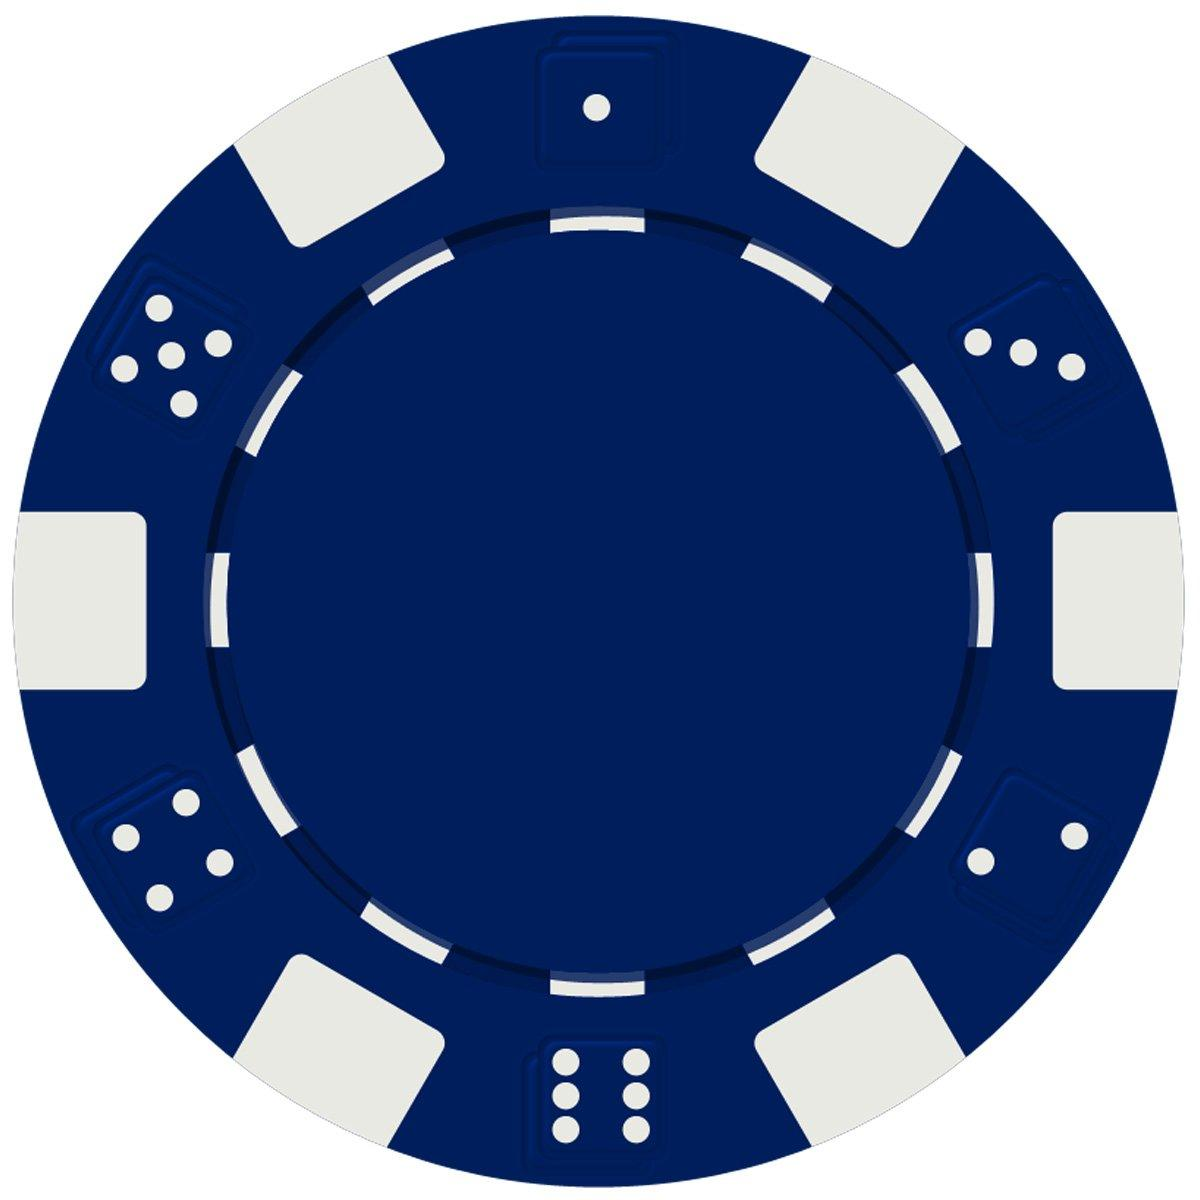chip-blue: (14, 16, 1181, 1185)
